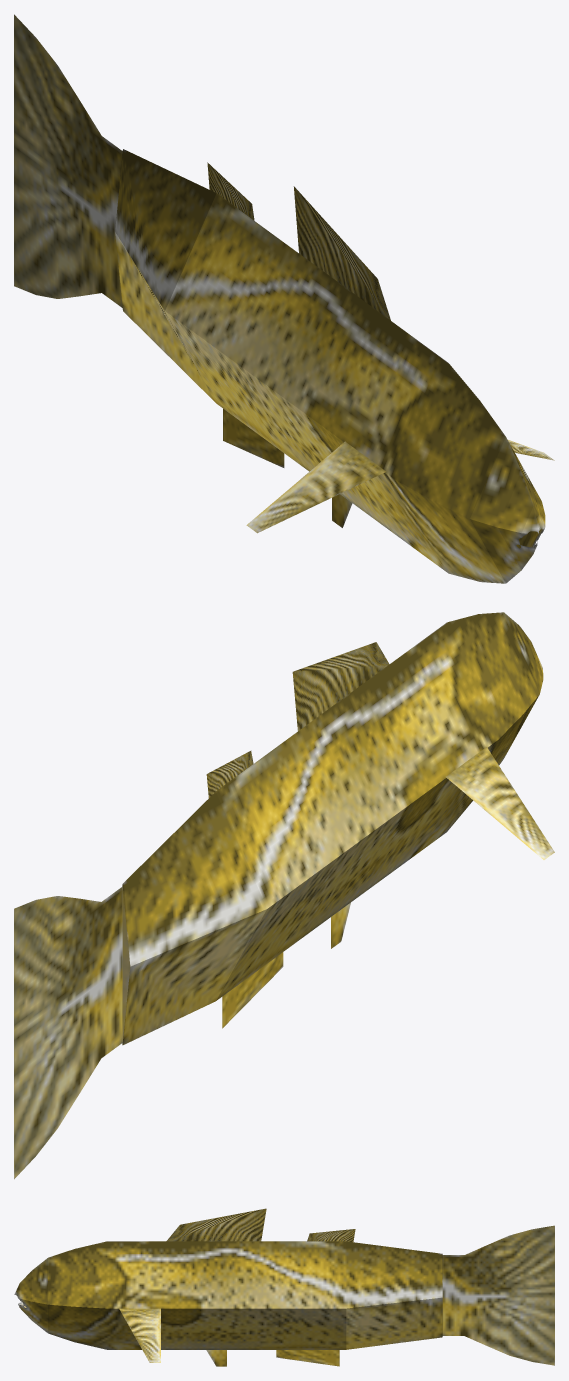
The model's file is cod_fish.fbx.
3 renders of one model, top to bottom at view 1: azimuth 30°, elevation 25°; view 2: azimuth 150°, elevation 25°; view 3: azimuth 270°, elevation 25°, orthographic. The views are drawn at different scales.
Parts seen in each view (by area): view 1: topfin_back1; view 2: topfin_back1; view 3: topfin_back1.
Boxes of the visible parts, <box> form: topfin_back1: <box>14,14,554,583</box>; topfin_back1: <box>14,612,554,1179</box>; topfin_back1: <box>14,1208,554,1366</box>.
Bounding box in the file's own units: 13.24 × 13.04 × 40.45.
